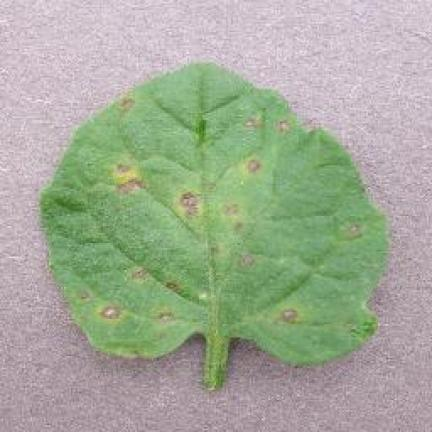disease: (40, 64, 385, 386)
leaf: (196, 118, 204, 140)
